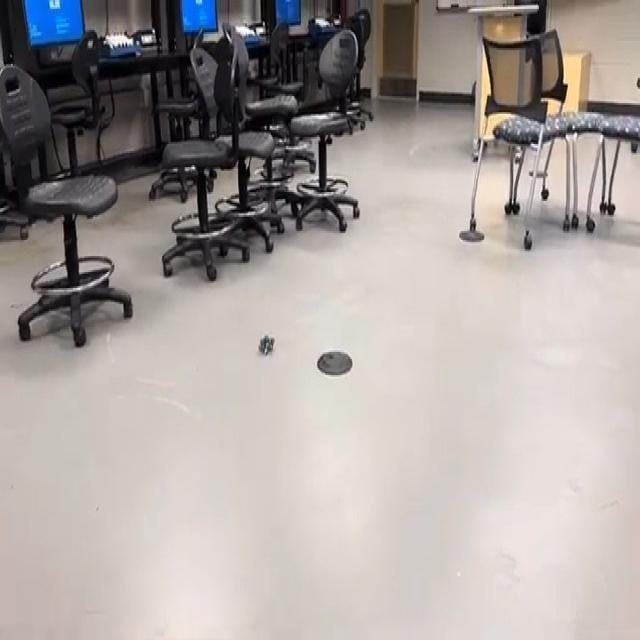drone: (254, 322, 280, 369)
